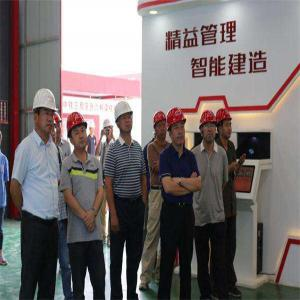red: (67, 112, 89, 153), (168, 106, 188, 148), (199, 110, 217, 144), (216, 108, 234, 141), (154, 112, 168, 141), (53, 112, 63, 140)
white: (32, 91, 55, 138), (116, 101, 134, 136), (103, 120, 114, 139), (90, 121, 96, 135)
